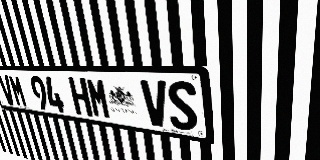4: (42, 76, 66, 113)
9: (29, 76, 51, 111)
H: (68, 77, 93, 117)
M: (86, 78, 112, 120), (8, 75, 28, 108)
S: (166, 81, 198, 132)
V: (140, 80, 170, 128), (0, 75, 17, 106)
